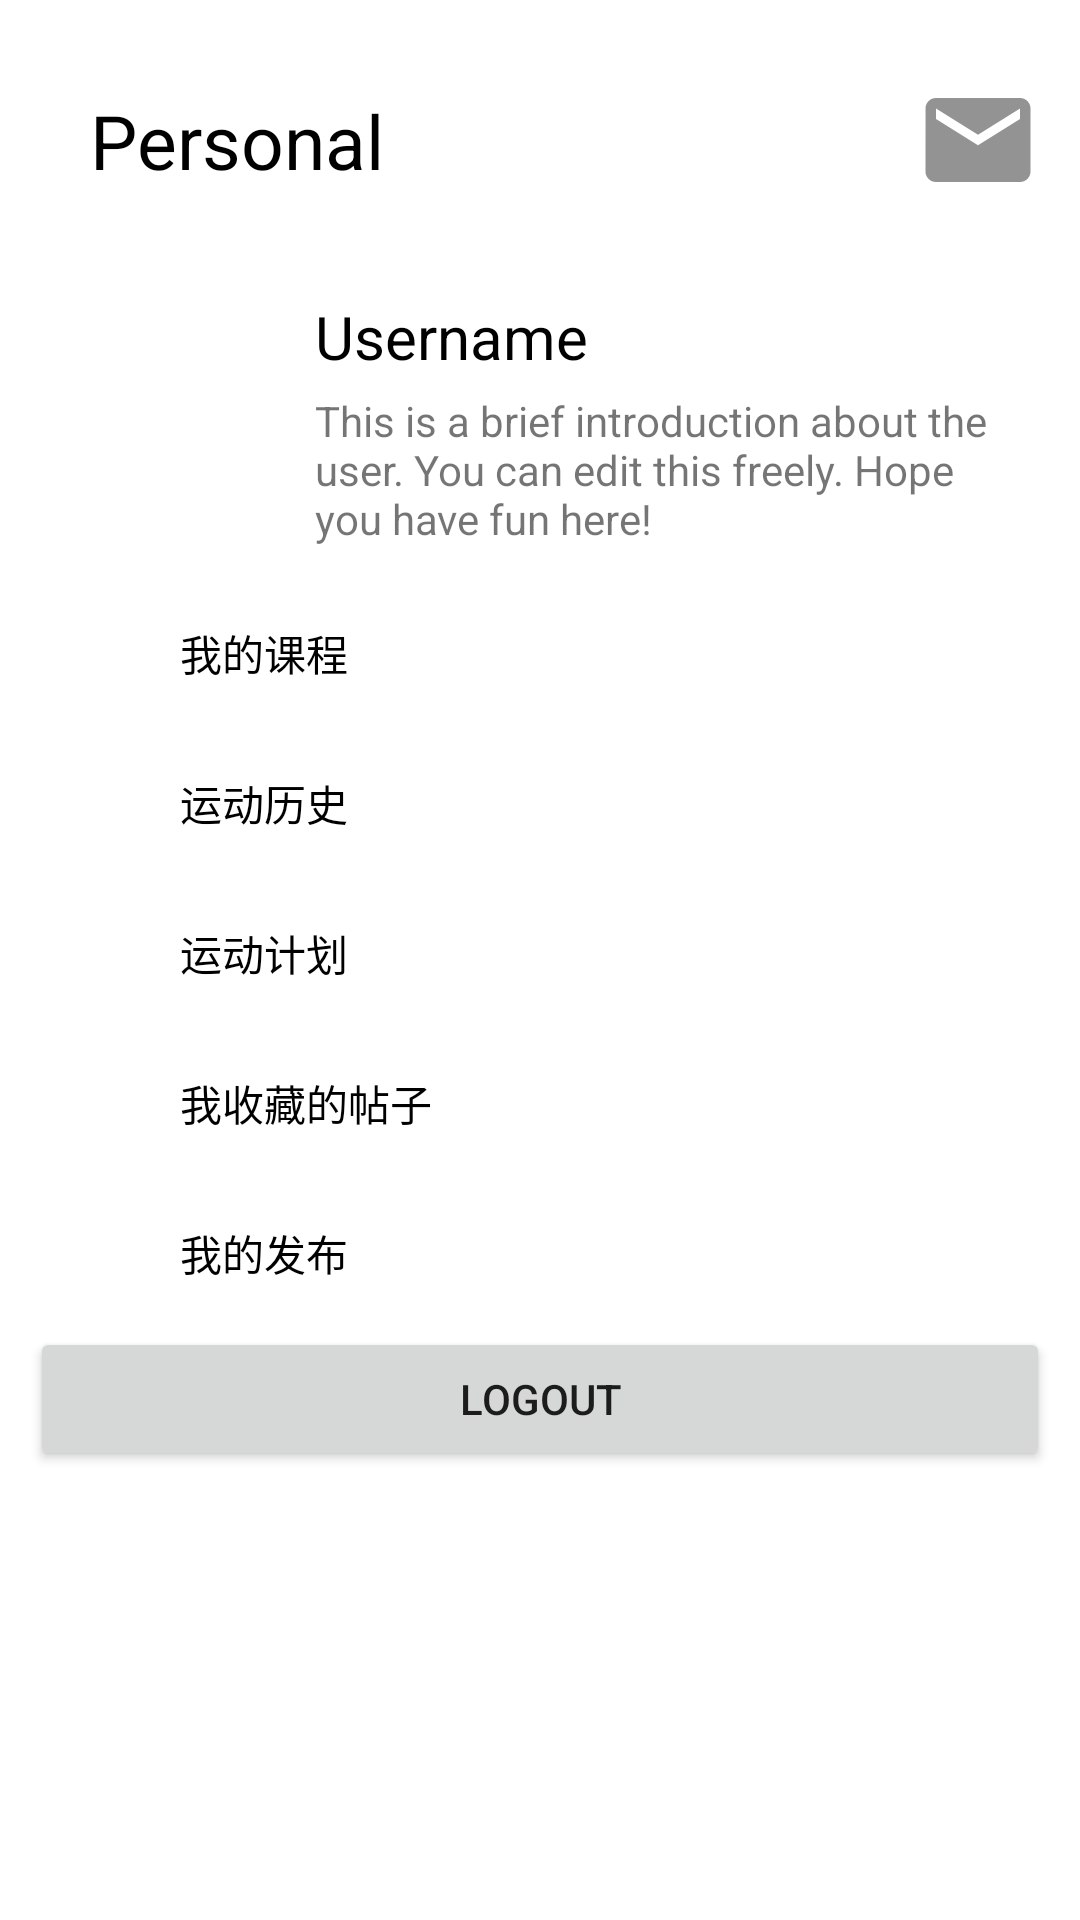

Where icons sit on this 1080px×1920px app screen, as {"left": x1, "top": y1, "right": x2, "bottom": y2}:
email: {"left": 925, "top": 98, "right": 1031, "bottom": 182}
